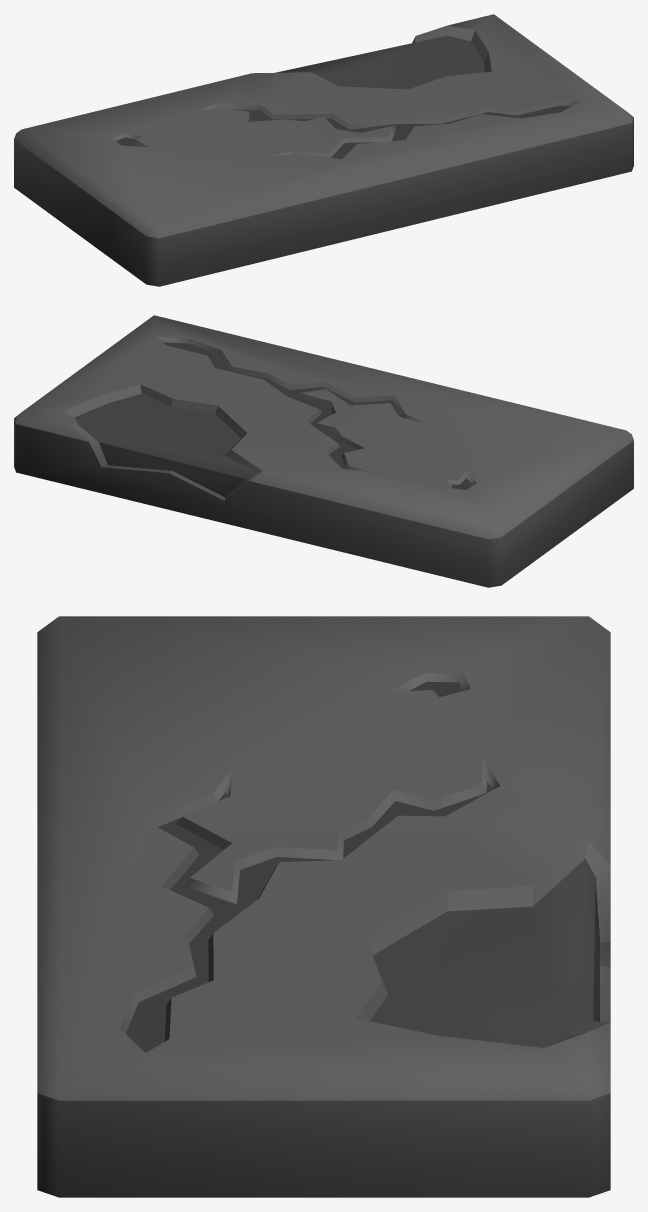
The model's file is Grave_1_2.glb.
3 views of the same model, one above another, from view 1: azimuth 30°, elevation 25°; view 2: azimuth 150°, elevation 25°; view 3: azimuth 270°, elevation 25° (orthographic). The views are drawn at different scales.
Visible parts, largest first — view 1: Grave_1_2; view 2: Grave_1_2; view 3: Grave_1_2.
Boxes of the visible parts, x1,y1,x2,y2 form: Grave_1_2: (14,14,633,286); Grave_1_2: (14,315,633,587); Grave_1_2: (37,616,610,1197).
Size of the model in its own units: 1.69 by 0.1866 by 0.8601.
1 material, 1 textured.
